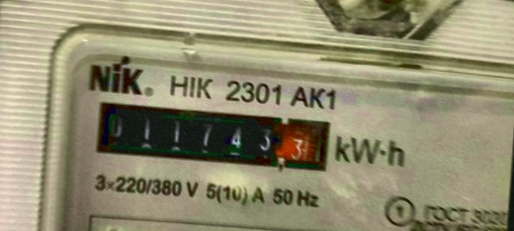0: (107, 111, 123, 140)
1: (168, 115, 182, 144), (139, 113, 151, 141)
3: (257, 125, 273, 153), (287, 136, 303, 162)
4: (227, 123, 243, 151)
7: (197, 118, 214, 147)
screen: (83, 90, 341, 183)
